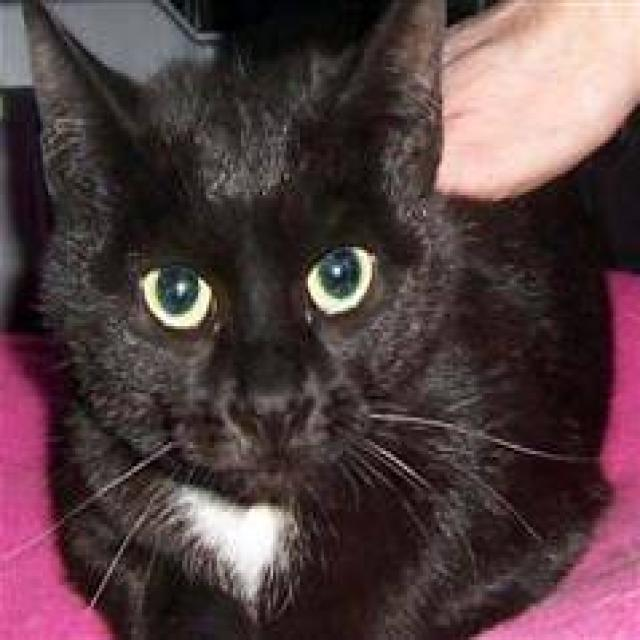Cat: (19, 0, 450, 491)
